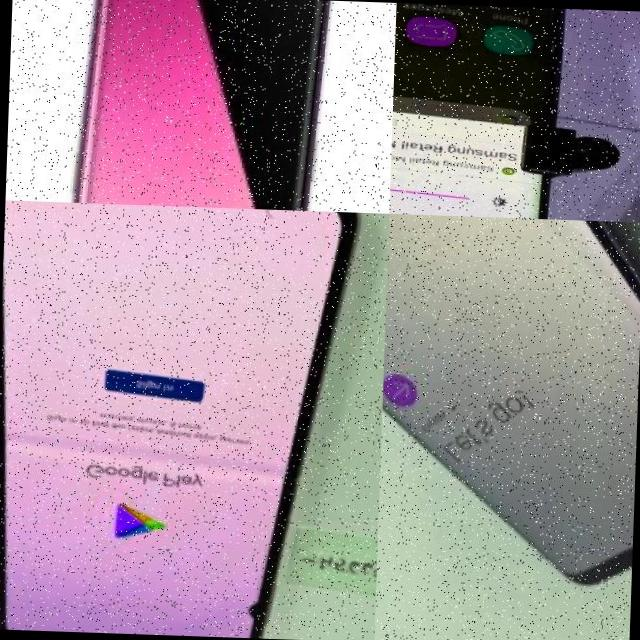dead pixel: (228, 585, 290, 625)
